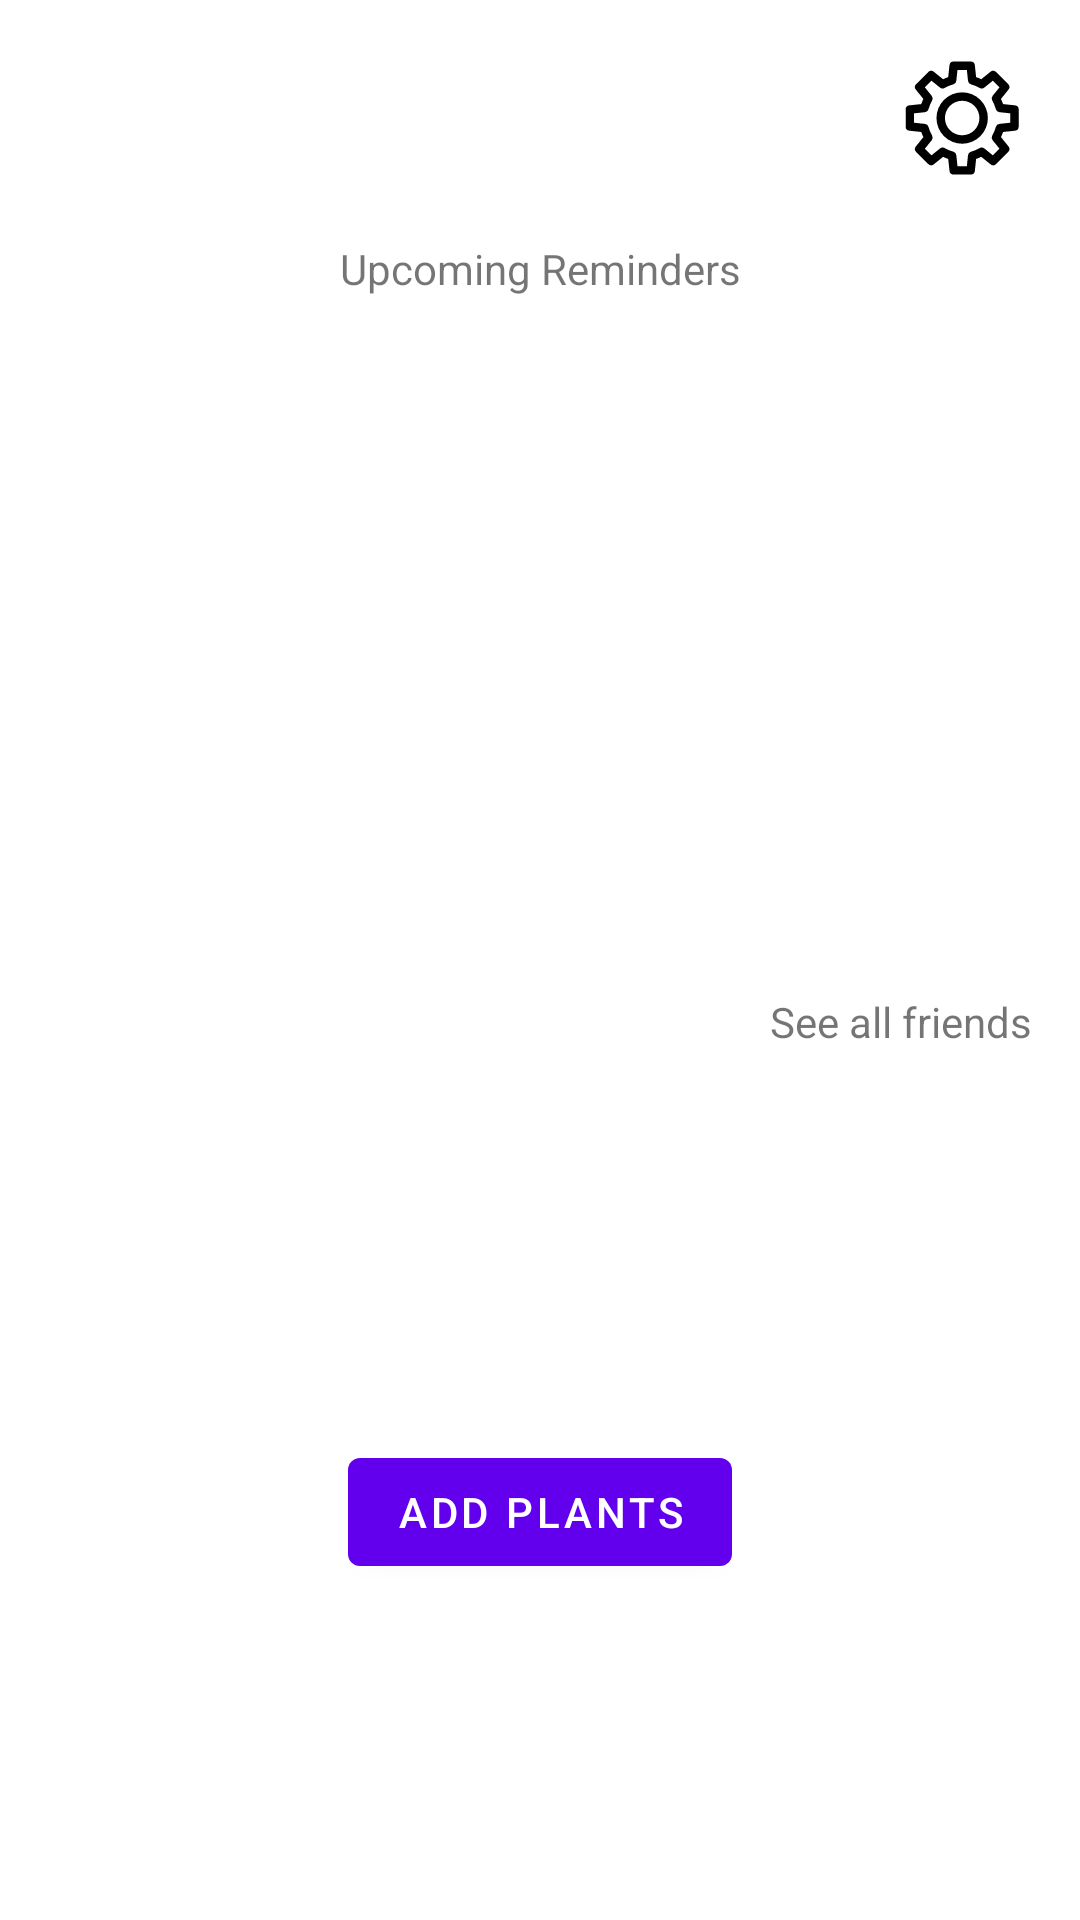

Point at icon controls on the screen. Image size 1080×1920, points as (x,y).
settings button: (962,118)
